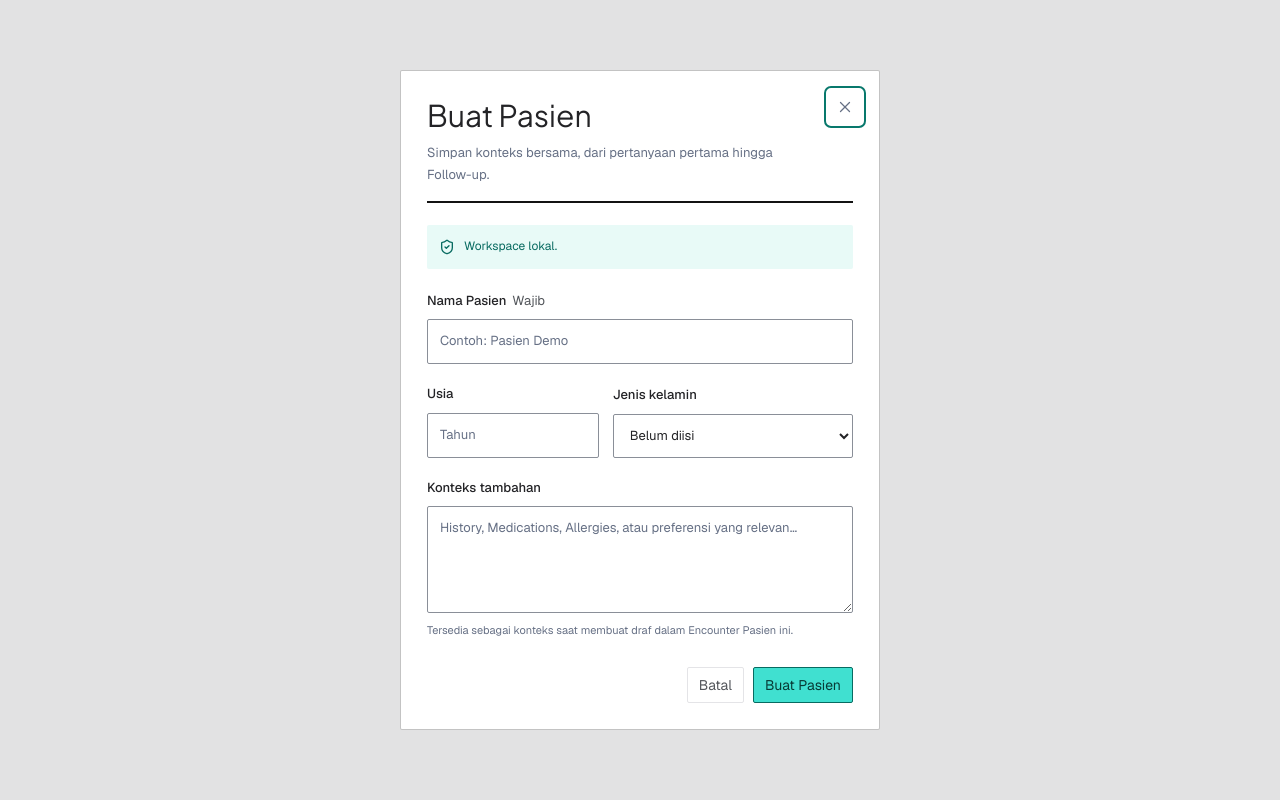
it: PatientForm age, review cases › refuses text the browser could not read as a number, which leaves the value empty
This screenshot has width=1280, height=800.
In the field with placeholder "Contoh: Pasien Demo": (640,342) [427,319,853,364], type "Pasien Uji"
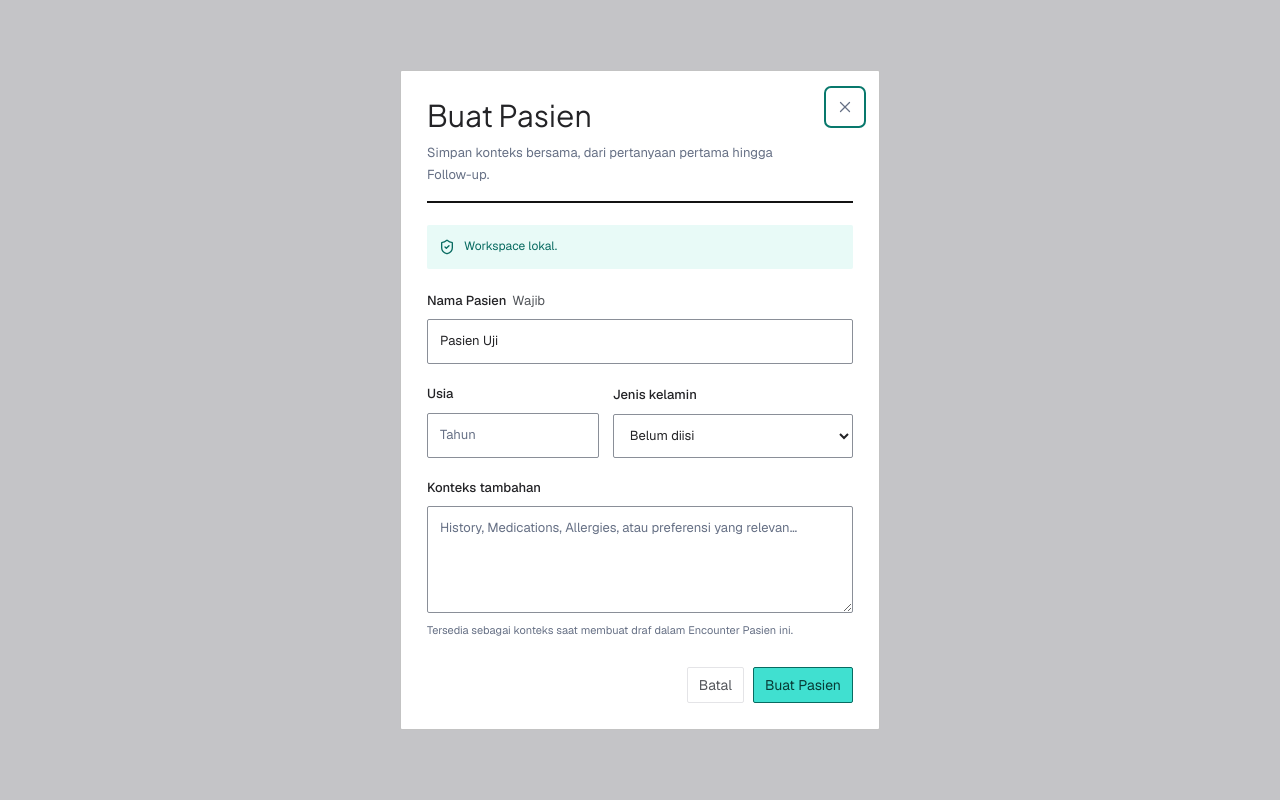
Click the button "Buat Pasien": (803,685) [753,667,853,703]
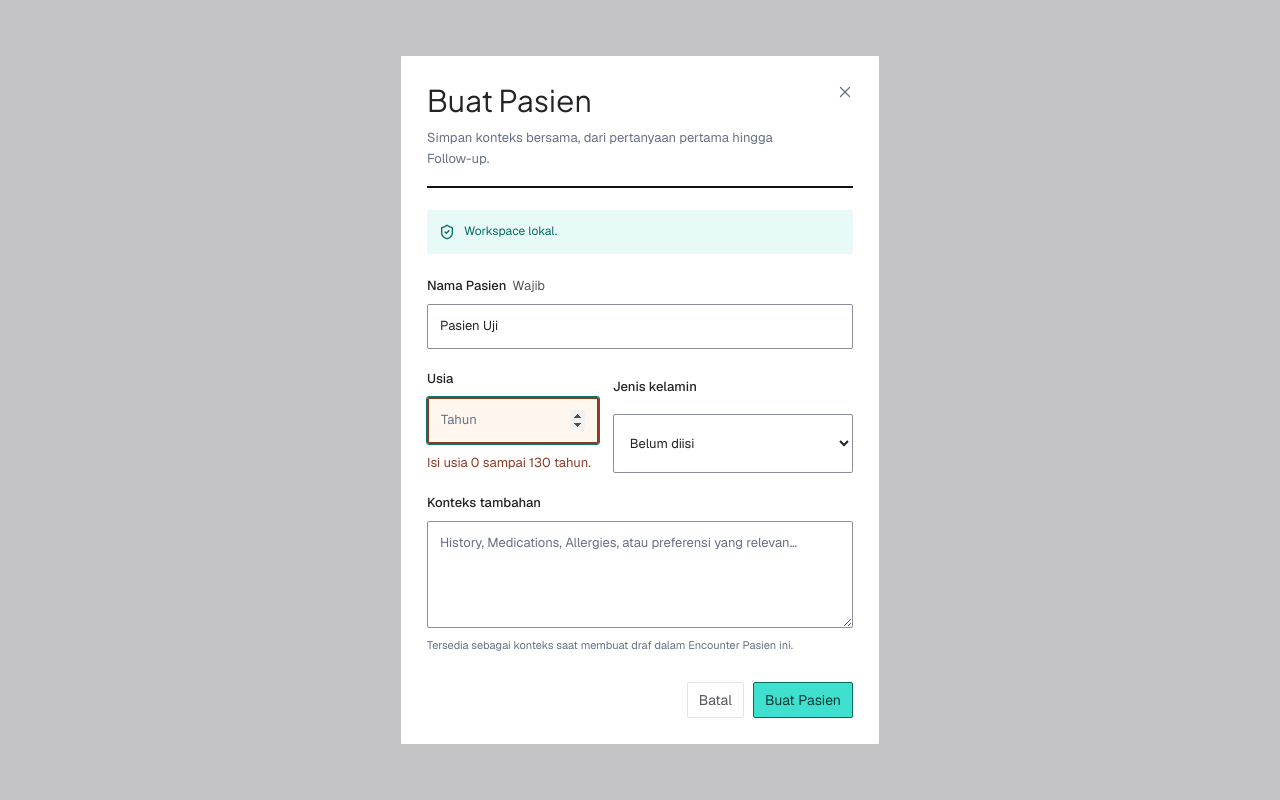
Result: the text "Isi usia 0 sampai 130 tahun." is shown at [427,453,599,473]
